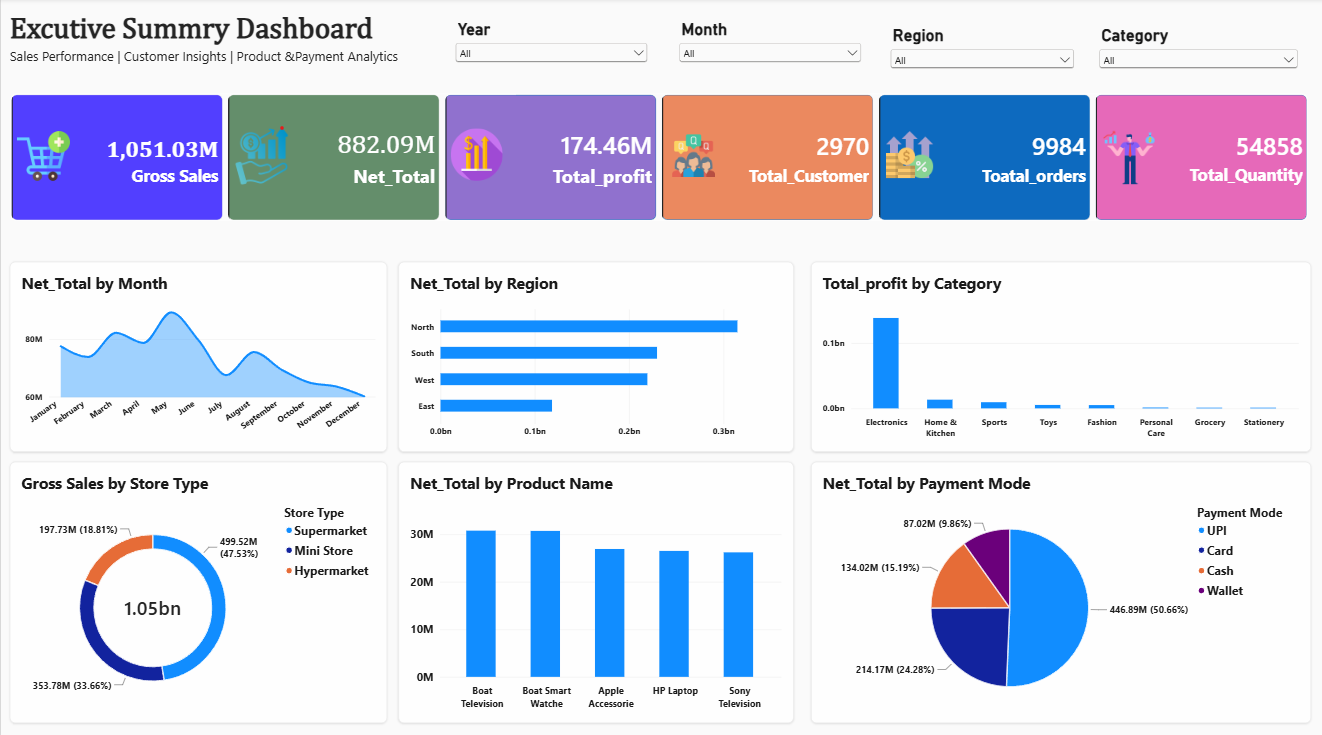

The page's visual inventory and layout, read from the dashboard file:
{"tool":"powerbi","page":{"name":"Page 1","canvas":[1920,1080],"ordinal":0},"visuals":[{"type":"cardVisual","fields":{"Data":["All_measure.ross sales","All_measure.net_total","All_measure.Total_profit","All_measure.Total_Customer","All_measure.Toatal_orders","All_measure.Total_Quantity"]},"box":[12.7,137.5,1883.9,186.4],"z":0},{"type":"slicer","fields":{"Values":["Date table.Date.Variation.Date Hierarchy.Year"]},"box":[653.3,30.8,287.7,76],"z":1000},{"type":"lineChart","fields":{"Category":["Date table.Date.Variation.Date Hierarchy.Month"],"Y":["All_measure.Net_Total"]},"box":[12.7,381.8,546.5,275.1],"z":2000},{"type":"clusteredColumnChart","fields":{"Category":["Products.Category"],"Y":["All_measure.Total_profit"]},"box":[1172.7,381.8,723.9,275.1],"z":3000},{"type":"donutChart","fields":{"Category":["Stores.Store Type"],"Y":["All_measure.Gross Sales"]},"box":[12.7,671.4,546.5,378.2],"z":4000},{"type":"clusteredBarChart","fields":{"Category":["Customers.Region"],"Y":["All_measure.Net_Total"]},"box":[575.5,381.8,571.9,275.1],"z":5000},{"type":"slicer","fields":{"Values":["Date table.Date.Variation.Date Hierarchy.Month"]},"box":[977.2,30.8,273.3,76],"z":6000},{"type":"clusteredColumnChart","fields":{"Y":["All_measure.Net_Total"],"Category":["Products.Product Name"]},"box":[575.5,671.4,571.9,378.2],"z":7000},{"type":"pieChart","fields":{"Category":["Sales.Payment Mode"],"Y":["All_measure.Net_Total"]},"box":[1172.7,671.4,723.9,378.2],"z":8000},{"type":"textbox","box":[12.7,21.7,599,94.1],"z":9000},{"type":"slicer","fields":{"Values":["Customers.Region"]},"box":[1283,39.8,275.1,76],"z":10000},{"type":"slicer","fields":{"Values":["Products.Category"]},"box":[1585.3,39.8,296.8,76],"z":11000}]}

Visuals, with their boxes in screenshot pixels (x1, y1, x2, y2), scaled from the page's 1920x1080 canvas onto the 1322x735 screenshot:
cardVisual - All_measure.ross sales x All_measure.net_total: 9, 94, 1306, 220
slicer - Date table.Date.Variation.Date Hierarchy.Year: 450, 21, 648, 73
lineChart - Date table.Date.Variation.Date Hierarchy.Month x All_measure.Net_Total: 9, 260, 385, 447
clusteredColumnChart - Products.Category x All_measure.Total_profit: 807, 260, 1306, 447
donutChart - Stores.Store Type x All_measure.Gross Sales: 9, 457, 385, 714
clusteredBarChart - Customers.Region x All_measure.Net_Total: 396, 260, 790, 447
slicer - Date table.Date.Variation.Date Hierarchy.Month: 673, 21, 861, 73
clusteredColumnChart - All_measure.Net_Total x Products.Product Name: 396, 457, 790, 714
pieChart - Sales.Payment Mode x All_measure.Net_Total: 807, 457, 1306, 714
textbox: 9, 15, 421, 79
slicer - Customers.Region: 883, 27, 1073, 79
slicer - Products.Category: 1092, 27, 1296, 79
